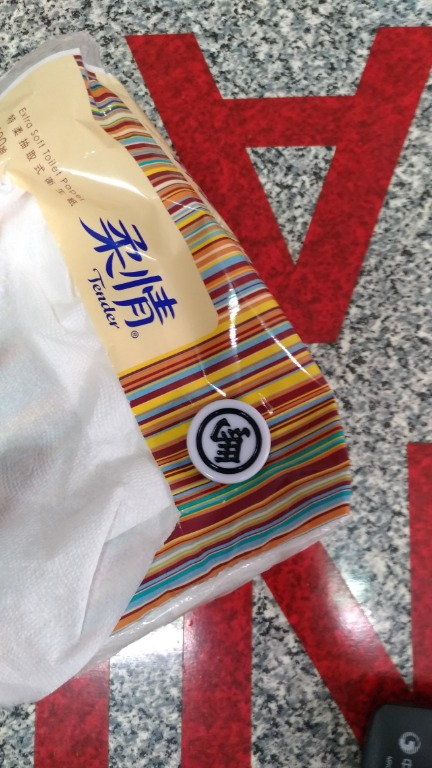b-knight: (151, 384, 311, 499)
